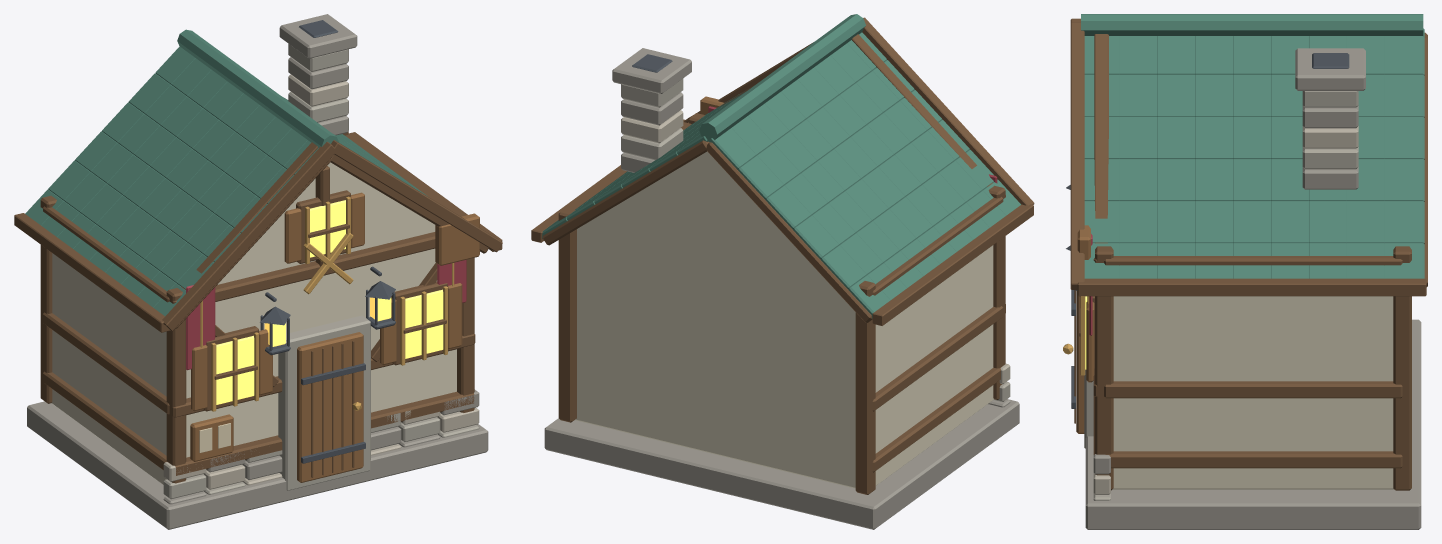
File: adventurers-guild.glb
3 views of the same model, side by side, from view 1: azimuth 30°, elevation 25°; view 2: azimuth 150°, elevation 25°; view 3: azimuth 270°, elevation 25° (orthographic). The views are drawn at different scales.
Parts seen in each view (by area): view 1: Roof_HV_adventurers-guild_slate, Structure_HV_adventurers-guild_plaster, Structure_HV_oak.003, Facade_HV_door.003, Structure_HV_stone0.003, Roof_HV_oak.003, Facade_HV_amber_glass.003, Facade_HV_stone1.003, Facade_HV_oak.003, Facade_HV_brass.003, Roof_HV_stone0.003, Facade_HV_iron.003 (+6 smaller); view 2: Structure_HV_adventurers-guild_plaster, Roof_HV_adventurers-guild_slate, Structure_HV_stone0.003, Structure_HV_oak.003, Roof_HV_oak.003, Roof_HV_stone0.003, Roof_HV_stone1.003, Roof_HV_stone2.003; view 3: Roof_HV_adventurers-guild_slate, Structure_HV_adventurers-guild_plaster, Structure_HV_oak.003, Structure_HV_stone0.003, Roof_HV_oak.003, Roof_HV_stone0.003, Roof_HV_stone1.003, Facade_HV_door.003, Roof_HV_stone2.003, Facade_HV_stone1.003, Roof_HV_iron.003, Facade_HV_brass.003.
Boxes of the visible parts, x1,y1,x2,y2 form: Roof_HV_adventurers-guild_slate: (25, 29, 427, 316); Structure_HV_adventurers-guild_plaster: (52, 162, 456, 484); Structure_HV_oak.003: (40, 131, 475, 483); Facade_HV_door.003: (190, 192, 479, 482); Structure_HV_stone0.003: (27, 389, 488, 529); Roof_HV_oak.003: (14, 132, 502, 332); Facade_HV_amber_glass.003: (216, 200, 443, 404); Facade_HV_stone1.003: (278, 315, 370, 490); Facade_HV_oak.003: (203, 190, 448, 477); Facade_HV_brass.003: (200, 196, 454, 411); Roof_HV_stone0.003: (279, 14, 357, 135); Facade_HV_iron.003: (260, 266, 395, 463); Structure_HV_adventurers-guild_plaster: (575, 151, 993, 488); Roof_HV_adventurers-guild_slate: (542, 14, 1020, 318); Structure_HV_stone0.003: (544, 399, 1019, 529); Structure_HV_oak.003: (558, 34, 1005, 494); Roof_HV_oak.003: (531, 17, 1034, 325); Roof_HV_stone0.003: (612, 48, 691, 172); Roof_HV_stone1.003: (621, 78, 683, 160); Roof_HV_stone2.003: (621, 110, 683, 143); Roof_HV_adventurers-guild_slate: (1081, 14, 1424, 278); Structure_HV_adventurers-guild_plaster: (1112, 296, 1393, 489); Structure_HV_oak.003: (1093, 34, 1411, 490); Structure_HV_stone0.003: (1085, 319, 1421, 529); Roof_HV_oak.003: (1070, 18, 1427, 296); Roof_HV_stone0.003: (1295, 48, 1365, 189); Roof_HV_stone1.003: (1302, 91, 1358, 169); Facade_HV_door.003: (1076, 225, 1094, 433); Roof_HV_stone2.003: (1302, 126, 1358, 148); Facade_HV_stone1.003: (1084, 369, 1093, 448); Roof_HV_iron.003: (1312, 53, 1349, 68); Facade_HV_brass.003: (1063, 296, 1089, 375).
Size of the model in its own units: 3.51 by 3.58 by 2.74.
